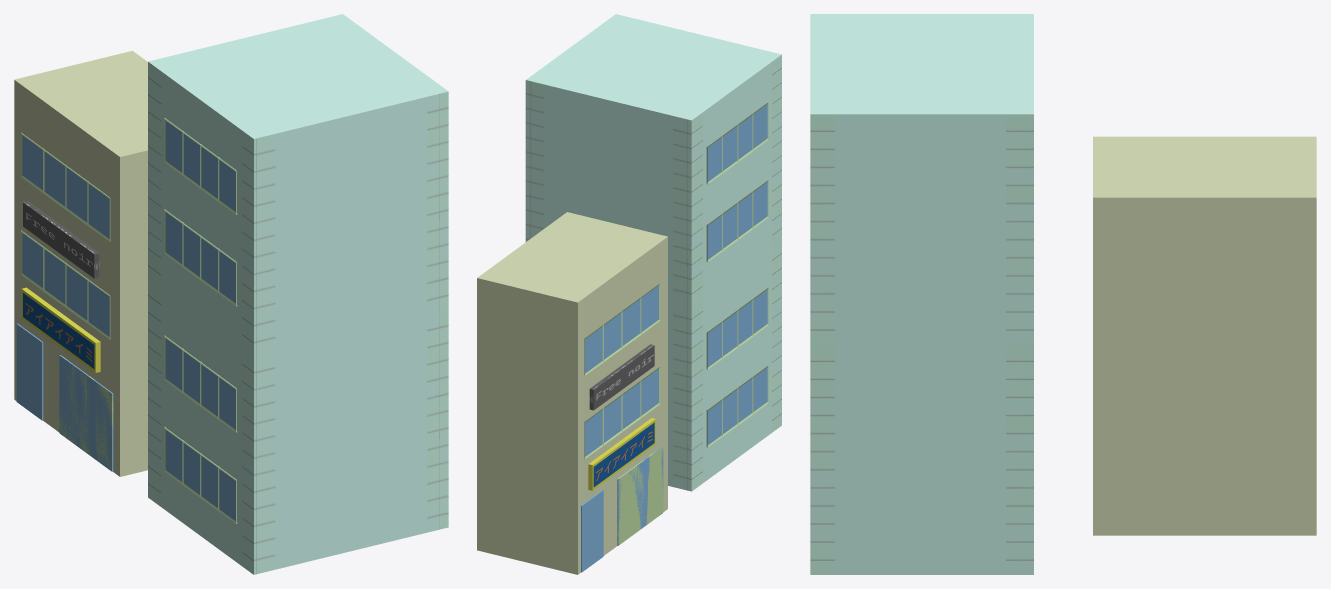
Rendered from kurinblock_left.glb.
The picture shows the model from 3 angles, left to right: view 1: azimuth 30°, elevation 25°; view 2: azimuth 150°, elevation 25°; view 3: azimuth 270°, elevation 25°; orthographic projection. The views are drawn at different scales.
Parts seen in each view (by area): view 1: Cube.016, Cube.001, Cube.007, Cube.002, Cube.005, Cube.010, Cube.012, Cube.019, Cube.014, Cube.017, Cube.008, Cube.009 (+8 smaller); view 2: Cube.016, Cube.007, Cube.001, Cube.004, Cube.005, Cube.010, Cube.017, Cube.019, Cube.014, Cube.012, Cube.008, Cube.009 (+8 smaller); view 3: Cube.007, Cube.016, Cube.001.
Boxes of the visible parts, <box> form: Cube.016: <box>148,14,448,356</box>; Cube.001: <box>148,279,448,574</box>; Cube.007: <box>14,51,147,476</box>; Cube.002: <box>59,355,113,471</box>; Cube.005: <box>22,233,109,336</box>; Cube.010: <box>22,135,109,238</box>; Cube.012: <box>165,338,235,429</box>; Cube.019: <box>165,212,235,303</box>; Cube.014: <box>165,430,235,521</box>; Cube.017: <box>165,120,235,211</box>; Cube.008: <box>21,287,100,372</box>; Cube.009: <box>23,201,99,278</box>; Cube.016: <box>525,14,781,305</box>; Cube.007: <box>477,212,667,574</box>; Cube.001: <box>668,240,781,491</box>; Cube.004: <box>617,446,663,545</box>; Cube.005: <box>585,369,658,456</box>; Cube.010: <box>585,285,658,373</box>; Cube.017: <box>707,104,767,181</box>; Cube.019: <box>707,182,767,259</box>; Cube.014: <box>707,367,767,445</box>; Cube.012: <box>707,289,767,367</box>; Cube.008: <box>588,418,655,490</box>; Cube.009: <box>589,344,654,410</box>; Cube.007: <box>1093,136,1316,535</box>; Cube.016: <box>810,14,1033,344</box>; Cube.001: <box>810,344,1033,574</box>.
Bounding box in the file's own units: 68.37 × 142 × 142.
Materials: 9 (3 with a texture image).
